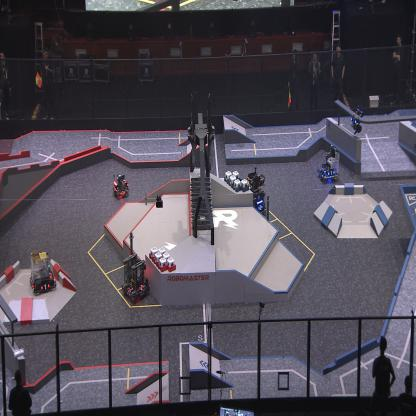car: (120, 250, 150, 302), (29, 246, 56, 296), (246, 172, 266, 219), (316, 145, 339, 184), (114, 174, 129, 198)
